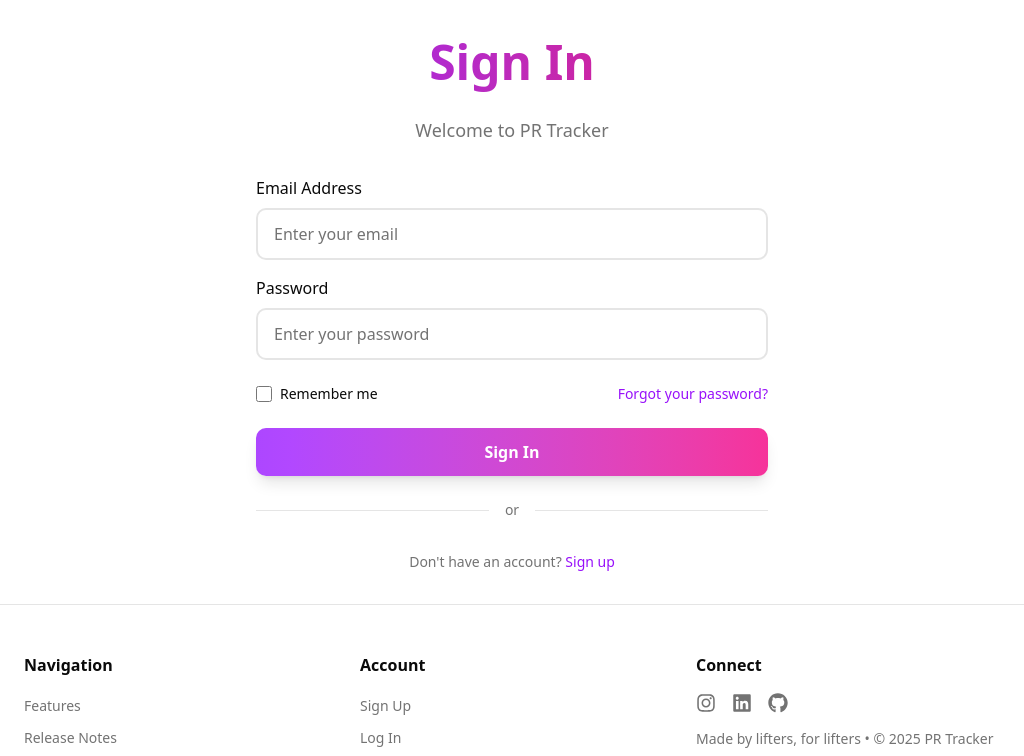
Scenario: LoginPage › Error Message Display › hides error message when form is cleared and resubmitted
This screenshot has width=1024, height=756.
Type "test@example.com" into the field labelled "Email Address". click: (512, 234)
box: [256,208,768,260]
Type "wrongpassword" into the password field labelled "Password". click: (512, 334)
box: [256,308,768,360]
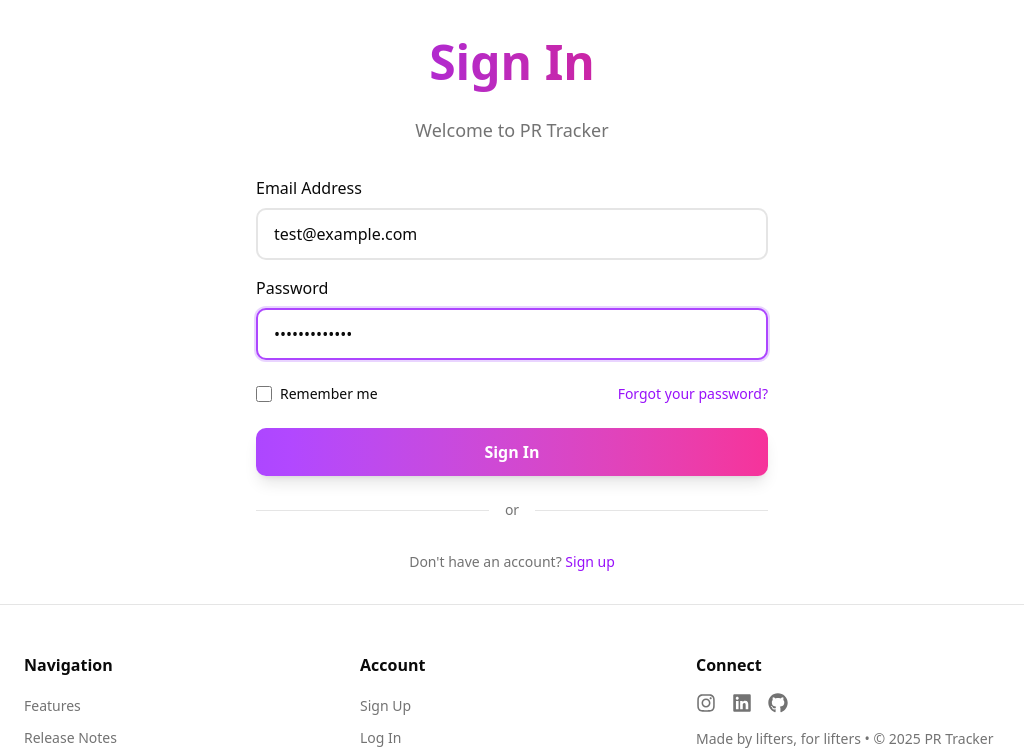
Click the button "Sign In". click: (512, 452)
box: [256,428,768,476]
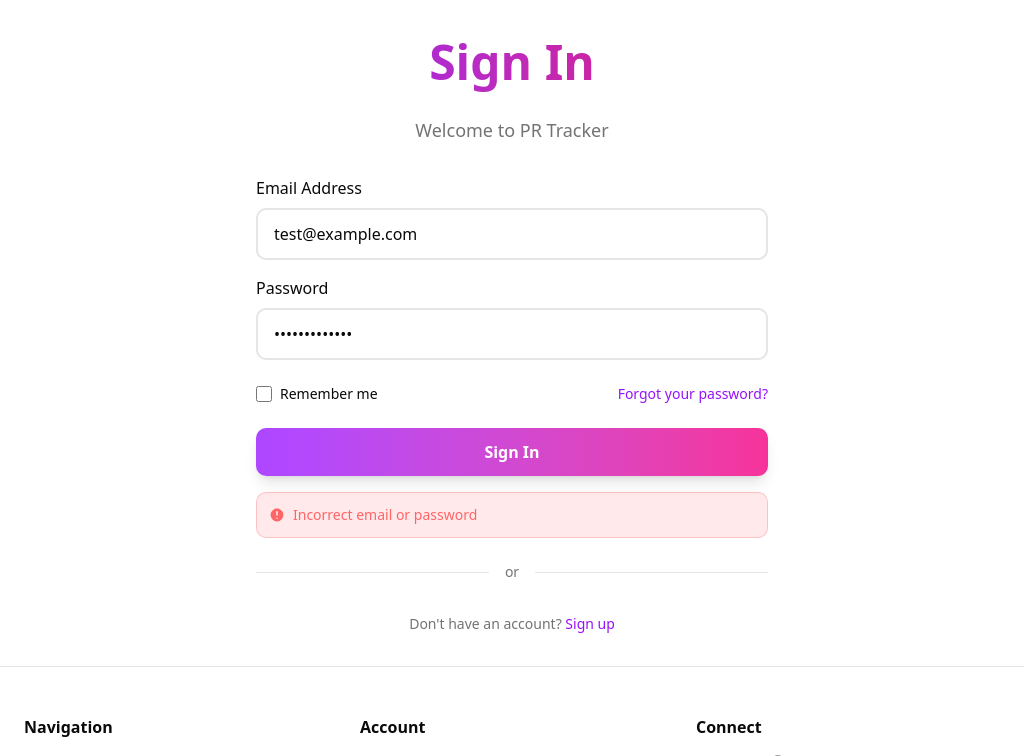
expect the text "Incorrect email or password" is shown: met, box [269,505,477,524]
Clear the field labelled "Email Address". click: (512, 234)
box: [256,208,768,260]
Clear the password field labelled "Password". click: (512, 334)
box: [256,308,768,360]
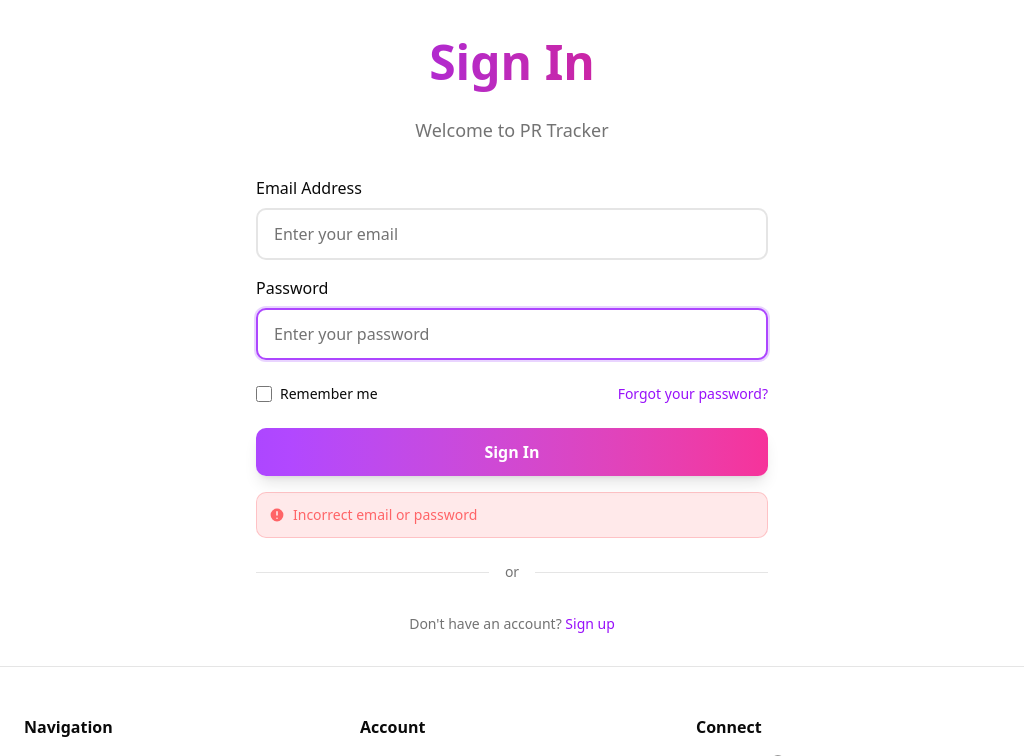
Type "test@example.com" into the field labelled "Email Address". click: (512, 234)
box: [256,208,768,260]
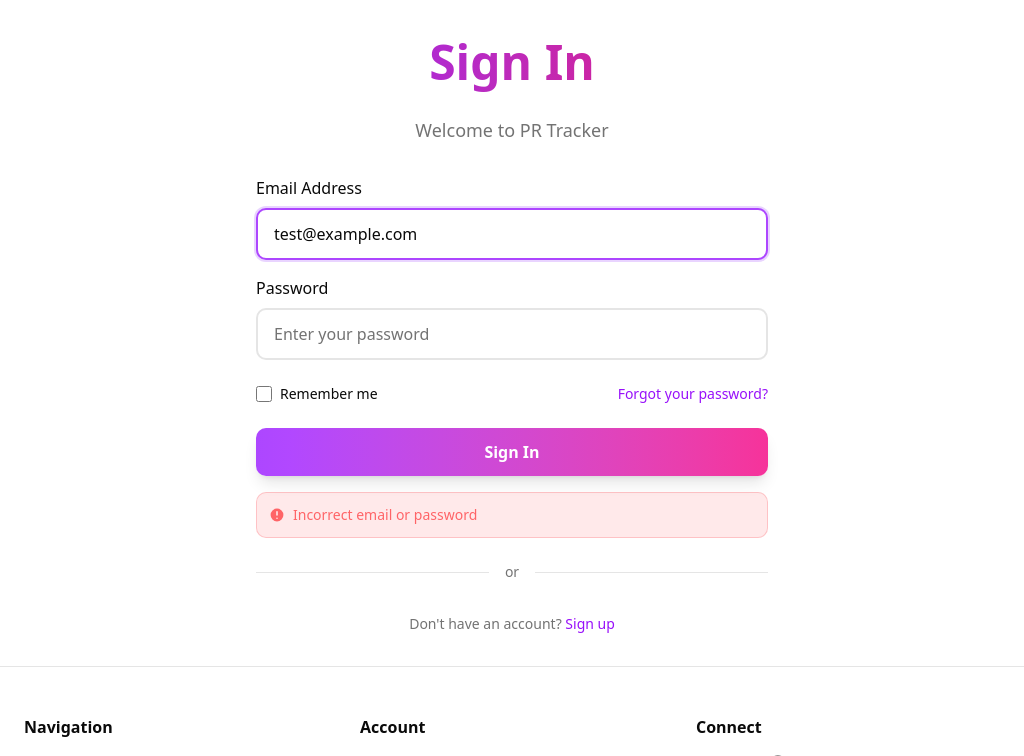
Type "password123" into the password field labelled "Password". click: (512, 334)
box: [256,308,768,360]
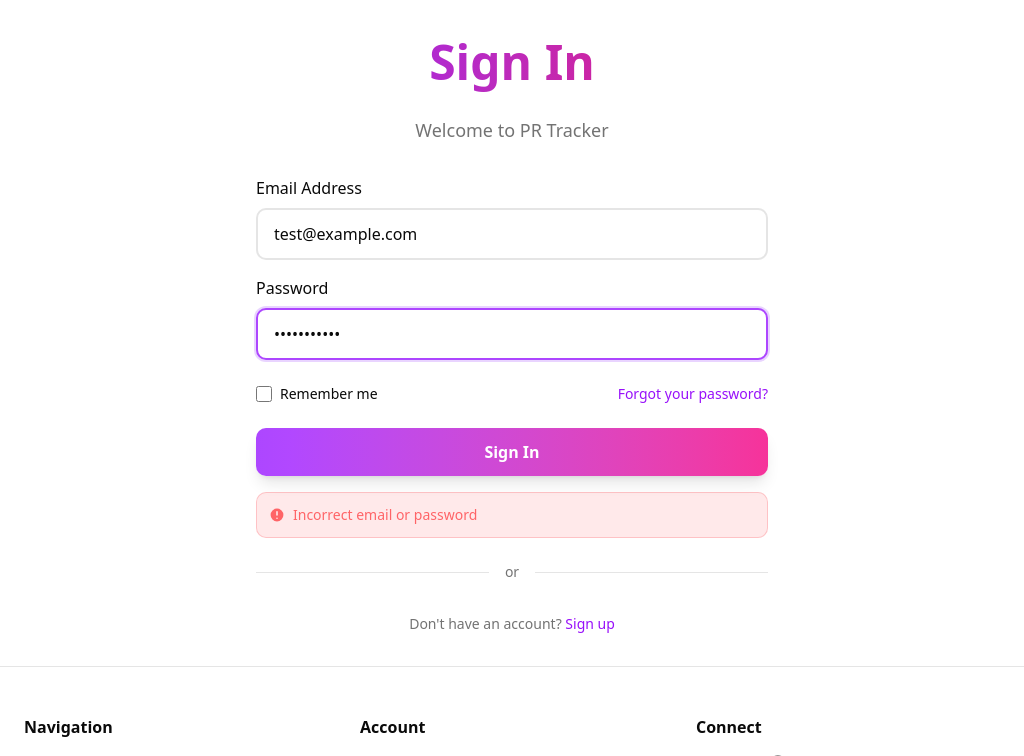
Click the button "Sign In". click: (512, 452)
box: [256,428,768,476]
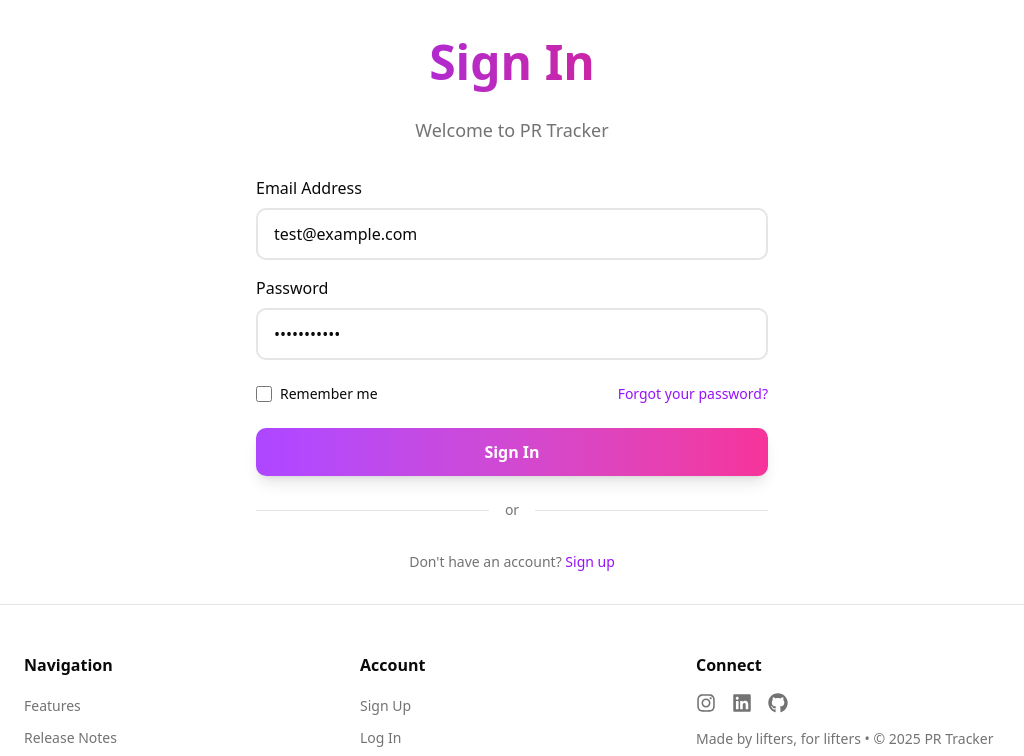
expect the text "Incorrect email or password" is gone: met
